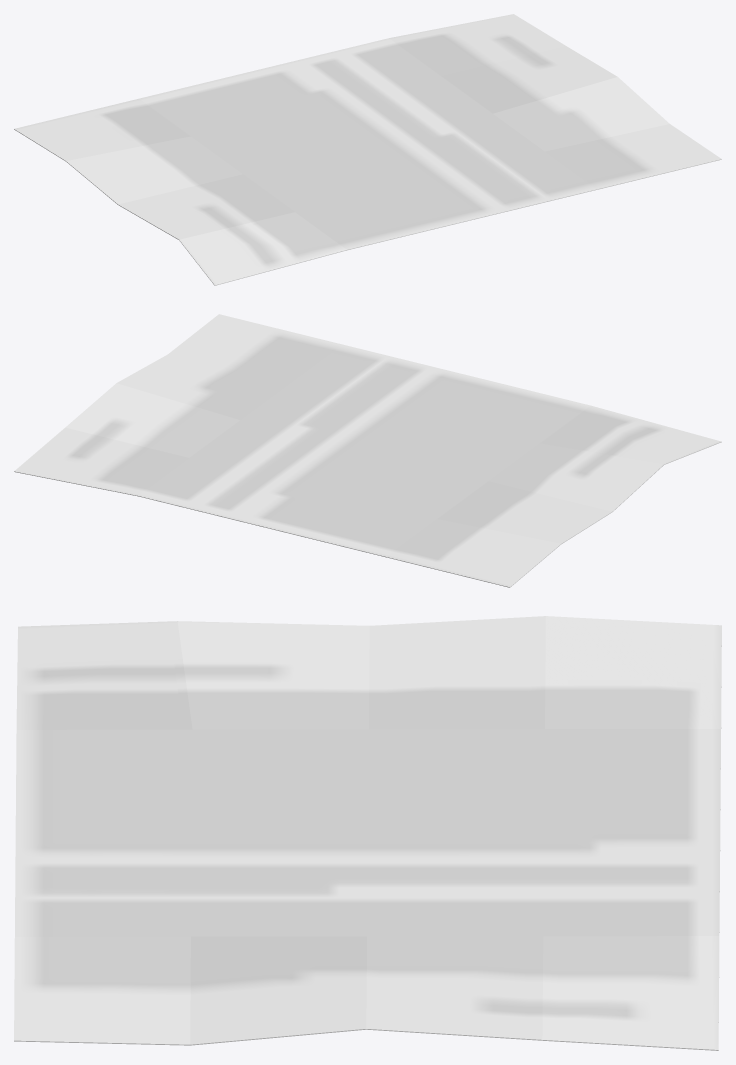
Rendered from Paper11.fbx.
The picture shows the model from 3 angles, top to bottom: view 1: azimuth 30°, elevation 25°; view 2: azimuth 150°, elevation 25°; view 3: azimuth 270°, elevation 25°; orthographic projection. The views are drawn at different scales.
Parts seen in each view (by area): view 1: Paper11; view 2: Paper11; view 3: Paper11.
Boxes of the visible parts, left/top/right/bottom form: Paper11: left=14, top=14, right=721, bottom=285; Paper11: left=14, top=314, right=721, bottom=587; Paper11: left=14, top=616, right=721, bottom=1050.
Size of the model in its own units: 0.341 by 0.2428 by 0.00855.
